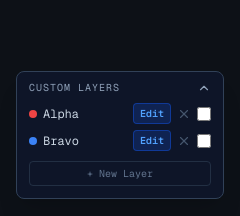
Scenario: CustomLayerPanel › hides the create form after successful creation
Click the button with test id "new-layer-btn" at (120, 174), box [29,161,211,186]
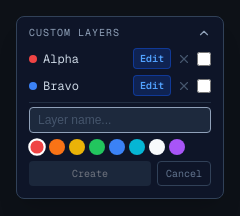
Type "My Layer" into the field with test id "new-layer-name-input" at (120, 120), box [29,107,211,133]
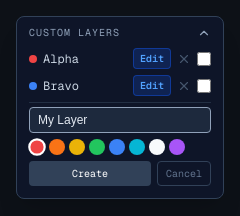
Click the button with test id "new-layer-create-btn" at (90, 174), box [29,161,151,186]
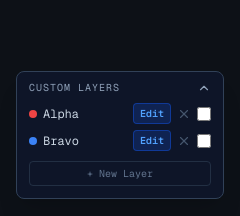
expect the field with test id "new-layer-name-input" is gone: met
